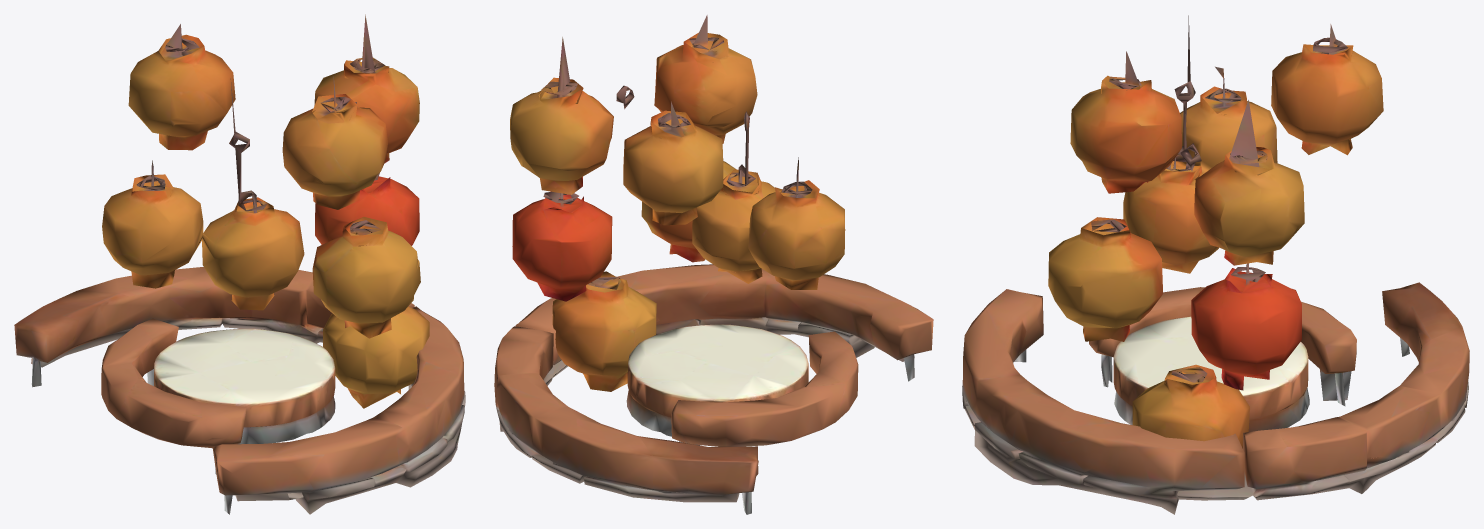
Rendered from atrium.glb.
3 views of the same model, side by side, from view 1: azimuth 30°, elevation 25°; view 2: azimuth 150°, elevation 25°; view 3: azimuth 270°, elevation 25° (orthographic). The views are drawn at different scales.
Visible parts, largest first — view 1: tripo_node_58235e10-1161-4d5d-9e9b-6f490443188d, tripo_node_48633a17-2f50-4547-a8e2-132c34a3f512; view 2: tripo_node_48633a17-2f50-4547-a8e2-132c34a3f512, tripo_node_58235e10-1161-4d5d-9e9b-6f490443188d; view 3: tripo_node_58235e10-1161-4d5d-9e9b-6f490443188d, tripo_node_48633a17-2f50-4547-a8e2-132c34a3f512.
Boxes of the visible parts, x1,y1,x2,y2 form: tripo_node_58235e10-1161-4d5d-9e9b-6f490443188d: (102, 14, 429, 408); tripo_node_48633a17-2f50-4547-a8e2-132c34a3f512: (14, 267, 465, 514); tripo_node_48633a17-2f50-4547-a8e2-132c34a3f512: (494, 264, 933, 514); tripo_node_58235e10-1161-4d5d-9e9b-6f490443188d: (510, 15, 845, 391); tripo_node_58235e10-1161-4d5d-9e9b-6f490443188d: (1048, 15, 1383, 448); tripo_node_48633a17-2f50-4547-a8e2-132c34a3f512: (962, 282, 1469, 514).
Size of the model in its own units: 2.41 by 2.6 by 3.03.
2 materials, 2 textured.
